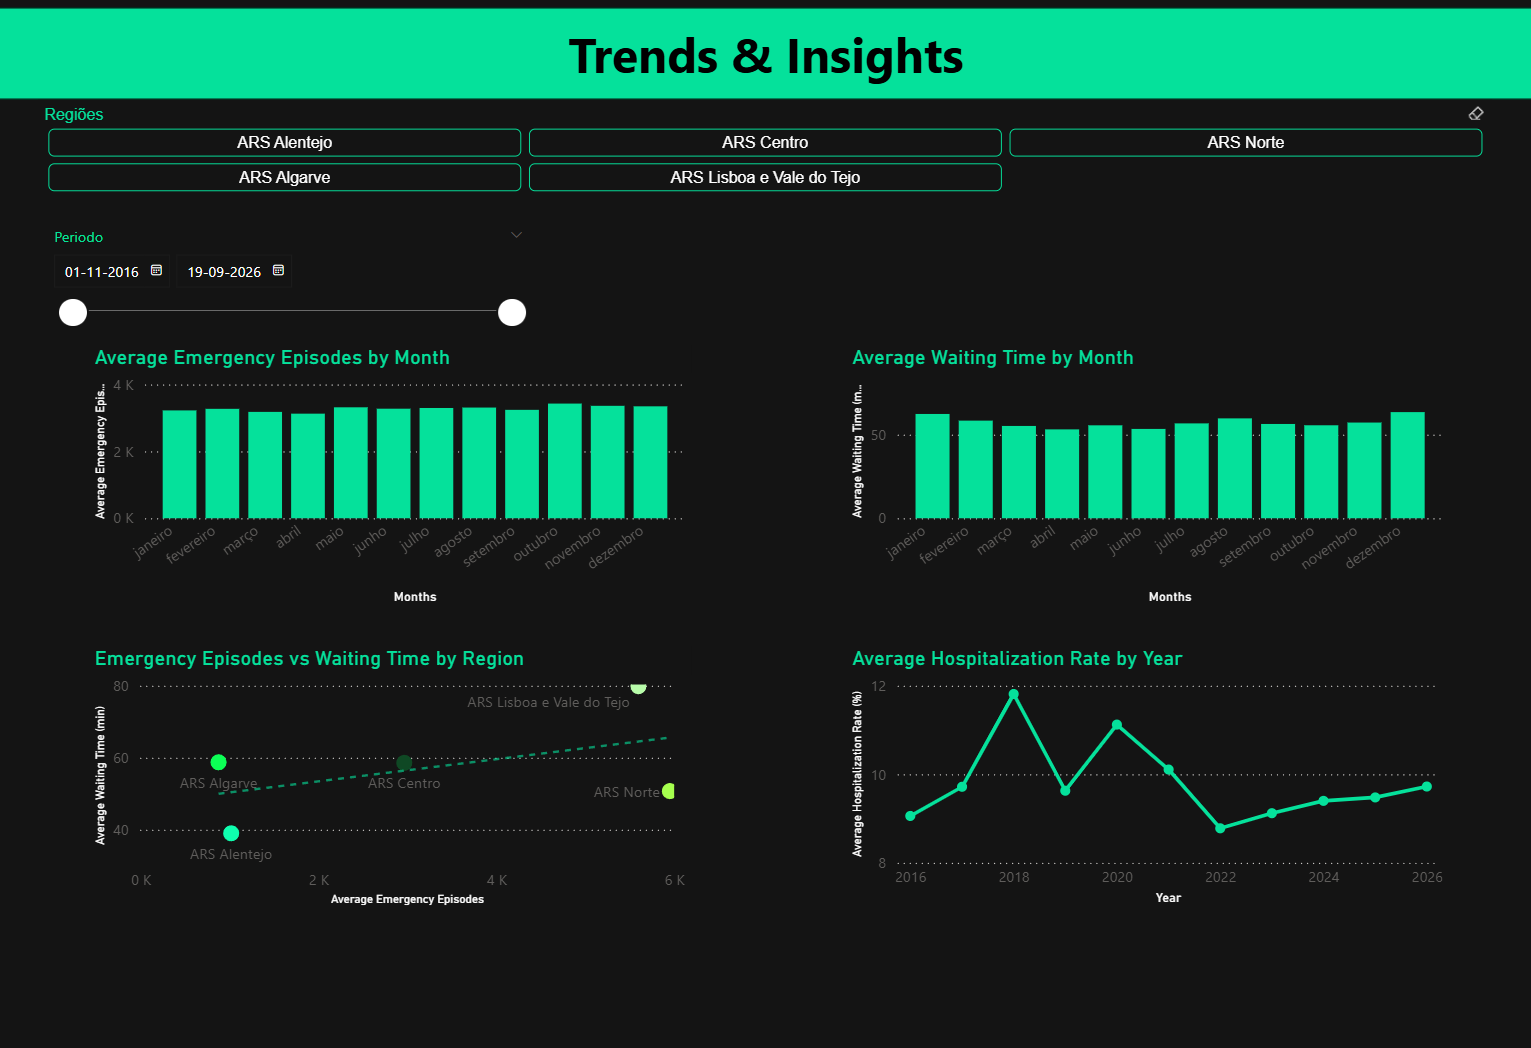

This screenshot's page, from the dashboard's own definition file:
{"tool":"powerbi","page":{"name":"Trends & Insights","canvas":[1280,900],"ordinal":2},"visuals":[{"type":"shape","box":[0,30.2,1279.8,76.8],"z":0},{"type":"shape","box":[5.5,35.7,1270.7,65.9],"z":1000},{"type":"ChicletSlicer1448559807354","fields":{"Category":["healthcare-cleaned.ars"]},"box":[36.6,107,1207.6,100.6],"z":2000},{"type":"clusteredColumnChart","title":"Average Emergency Episodes by Month","fields":{"Category":["healthcare-cleaned.periodo.Variação.Hierarquia de Datas.Mês"],"Y":["healthcare-cleaned.Avg Emergency Episodes"]},"box":[77.9,310.5,500.5,220.1],"z":3000},{"type":"scatterChart","title":"Emergency Episodes vs Waiting Time by Region","fields":{"Series":["healthcare-cleaned.ars"],"X":["healthcare-cleaned.Avg Emergency Episodes"],"Y":["healthcare-cleaned.Avg_waiting_time"]},"box":[77.9,560.7,500.5,220.1],"z":4000},{"type":"lineChart","title":"Average Hospitalization Rate by Year","fields":{"Category":["healthcare-cleaned.periodo.Variação.Hierarquia de Datas.Ano"],"Y":["healthcare-cleaned.Avg Hospitalization Rate"]},"box":[707.1,560.7,500.5,220.1],"z":5000},{"type":"clusteredColumnChart","title":"Average Waiting Time by Month","fields":{"Category":["healthcare-cleaned.periodo.Variação.Hierarquia de Datas.Mês"],"Y":["healthcare-cleaned.Avg_waiting_time"]},"box":[707.1,310.5,500.5,220.1],"z":9000},{"type":"slicer","fields":{"Values":["healthcare-cleaned.periodo"]},"box":[36.3,197.3,414.3,102.8],"z":9001}]}

Visuals, with their boxes in screenshot pixels (x1, y1, x2, y2), scaled from the page's 1280x900 canvas onto the 1531x1048 screenshot:
shape: [left=0, top=35, right=1530, bottom=125]
shape: [left=7, top=42, right=1526, bottom=118]
ChicletSlicer1448559807354 - healthcare-cleaned.ars: [left=44, top=125, right=1488, bottom=242]
"Average Emergency Episodes by Month" clusteredColumnChart: [left=93, top=362, right=692, bottom=618]
"Emergency Episodes vs Waiting Time by Region" scatterChart: [left=93, top=653, right=692, bottom=909]
"Average Hospitalization Rate by Year" lineChart: [left=846, top=653, right=1444, bottom=909]
"Average Waiting Time by Month" clusteredColumnChart: [left=846, top=362, right=1444, bottom=618]
slicer - healthcare-cleaned.periodo: [left=43, top=230, right=539, bottom=349]
